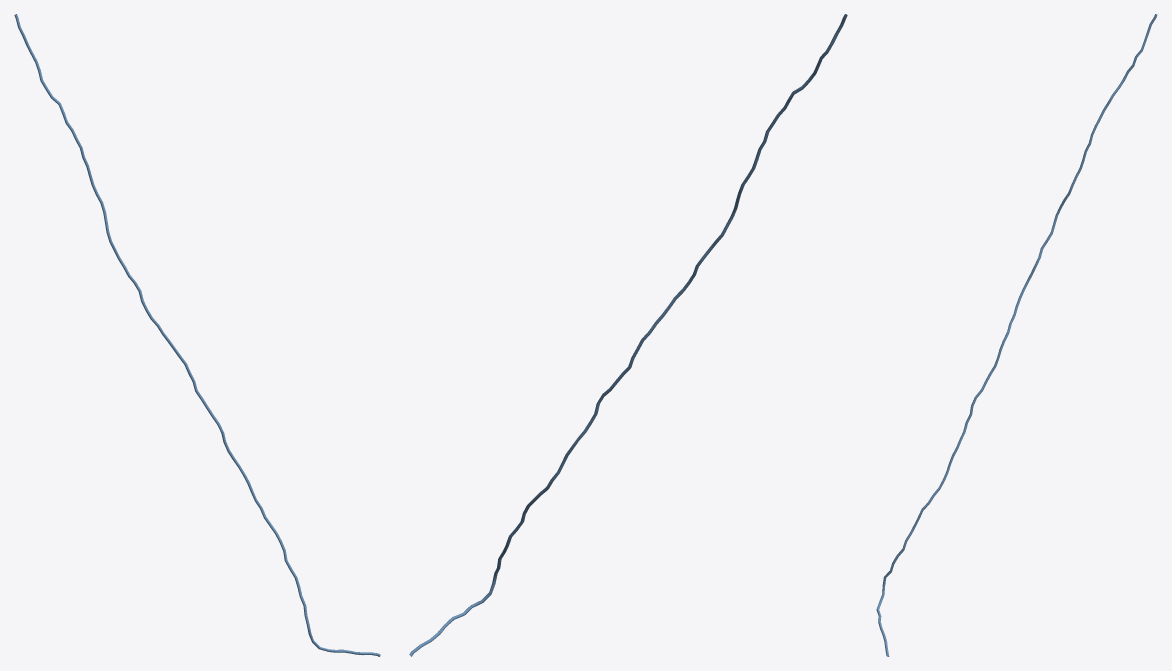
Rendered from sweep254.fbx.
The picture shows the model from 3 angles, left to right: view 1: azimuth 30°, elevation 25°; view 2: azimuth 210°, elevation 25°; view 3: azimuth 270°, elevation 25°; orthographic projection. The views are drawn at different scales.
Visible parts, largest first — view 1: sweep254; view 2: sweep254; view 3: sweep254.
Boxes of the visible parts, box(x1,y1,x2,y2) form: sweep254: box(14, 14, 380, 656); sweep254: box(409, 14, 847, 656); sweep254: box(876, 14, 1157, 656).
Size of the model in its own units: 1.75 by 4.48 by 2.09.
